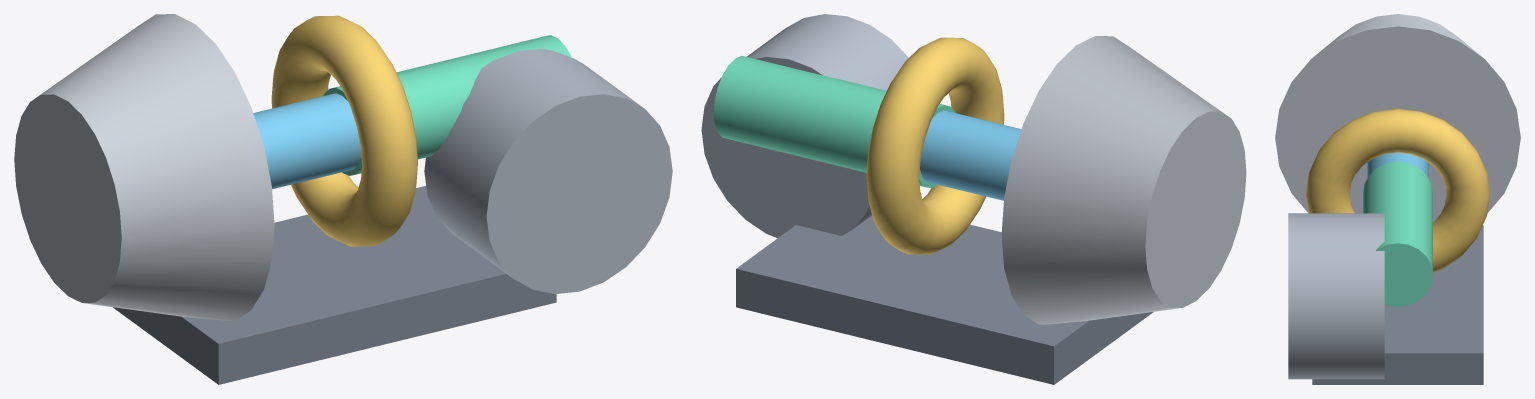
The model's file is mech-transmission.glb.
The picture shows the model from 3 angles, left to right: view 1: azimuth 30°, elevation 25°; view 2: azimuth 150°, elevation 25°; view 3: azimuth 270°, elevation 25°; orthographic projection. The views are drawn at different scales.
Visible parts, largest first — view 1: part_bell_housing, part_differential, part_gearbox_pan, part_synchro_hub, part_input_shaft, part_output_shaft; view 2: part_bell_housing, part_gearbox_pan, part_differential, part_synchro_hub, part_output_shaft, part_input_shaft; view 3: part_bell_housing, part_differential, part_synchro_hub, part_gearbox_pan, part_output_shaft, part_input_shaft.
Part boxes in pixels (box(x1,y1,x2,y2)): part_bell_housing: box(14, 14, 274, 320); part_differential: box(424, 48, 672, 293); part_gearbox_pan: box(113, 186, 556, 384); part_synchro_hub: box(271, 15, 417, 246); part_input_shaft: box(253, 93, 361, 189); part_output_shaft: box(323, 35, 572, 175); part_bell_housing: box(1001, 36, 1246, 324); part_gearbox_pan: box(736, 215, 1153, 384); part_differential: box(701, 14, 908, 237); part_synchro_hub: box(866, 37, 1004, 254); part_output_shaft: box(713, 55, 955, 188); part_input_shaft: box(920, 110, 1021, 200); part_bell_housing: box(1275, 14, 1520, 222); part_differential: box(1288, 213, 1384, 379); part_synchro_hub: box(1306, 109, 1489, 272); part_gearbox_pan: box(1312, 225, 1483, 384); part_output_shaft: box(1363, 161, 1432, 306); part_input_shaft: box(1367, 152, 1428, 177).
Bounding box in the file's own units: 2.18 × 1.22 × 1.12.
